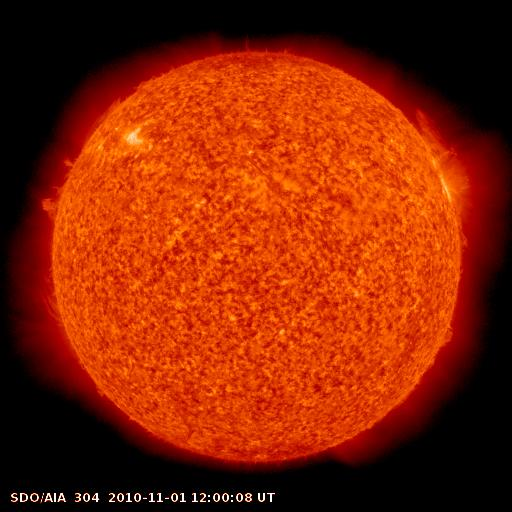prominence: (94, 65, 173, 125), (36, 151, 87, 225), (418, 96, 457, 165), (425, 319, 458, 356)
